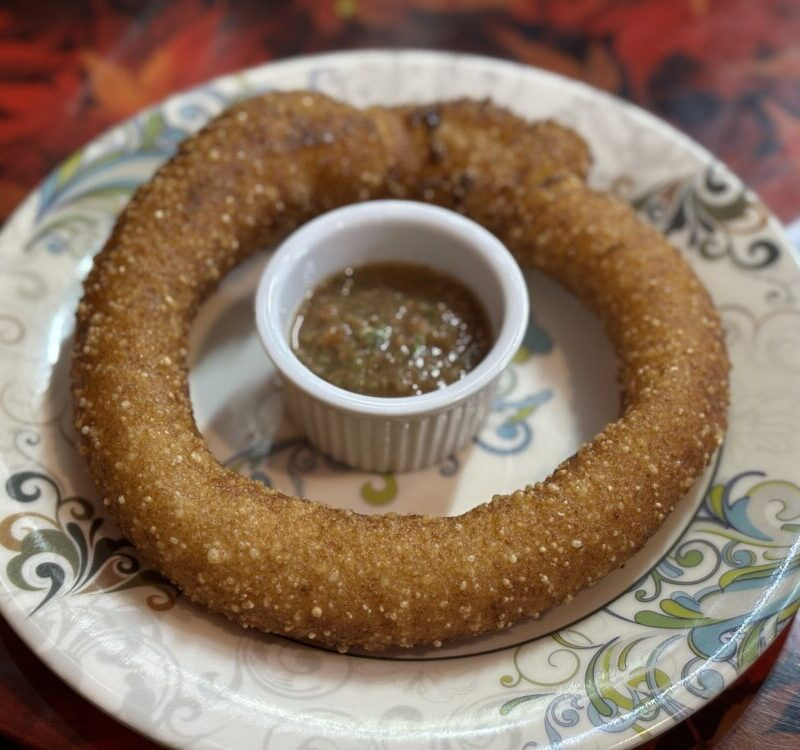sel_roti: (80, 92, 730, 638)
